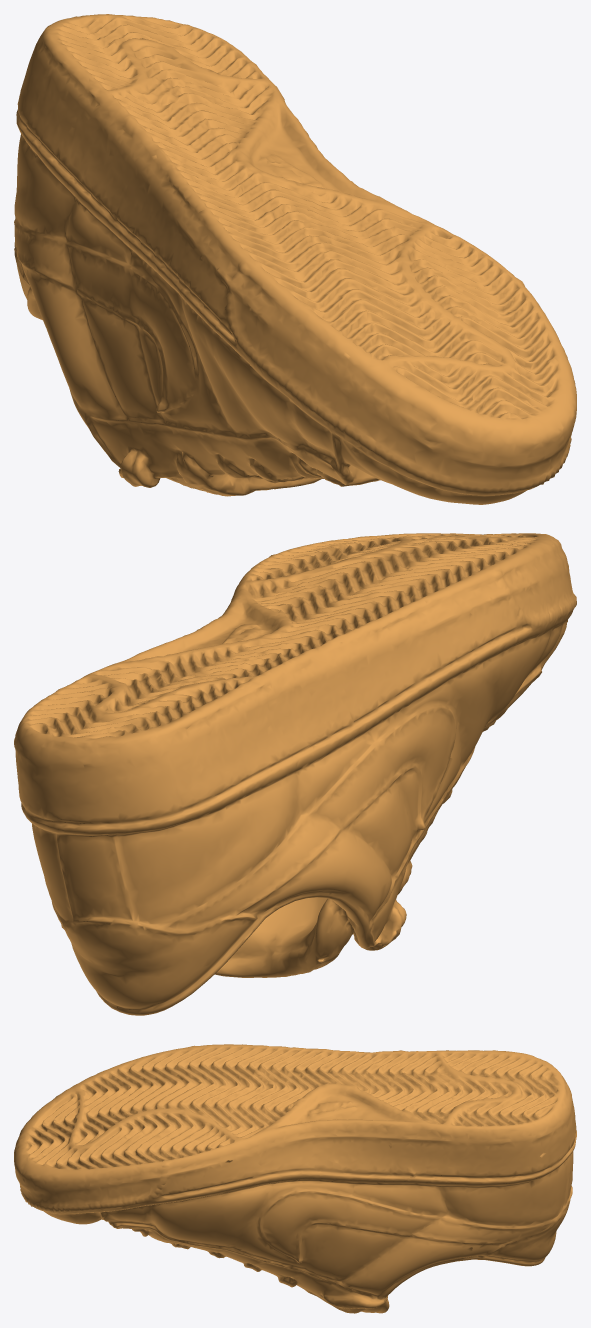
File: shoe2_6.dae
3 renders of one model, top to bottom at view 1: azimuth 30°, elevation 25°; view 2: azimuth 150°, elevation 25°; view 3: azimuth 270°, elevation 25°, orthographic. The views are drawn at different scales.
Parts seen in each view (by area): view 1: shoe2_019; view 2: shoe2_019; view 3: shoe2_019.
Part boxes in pixels (x1,y1,x2,y2): shoe2_019: (14,14,576,504); shoe2_019: (14,533,576,1015); shoe2_019: (14,1044,576,1313).
Size of the model in its own units: 0.135 by 0.3605 by 0.166.
